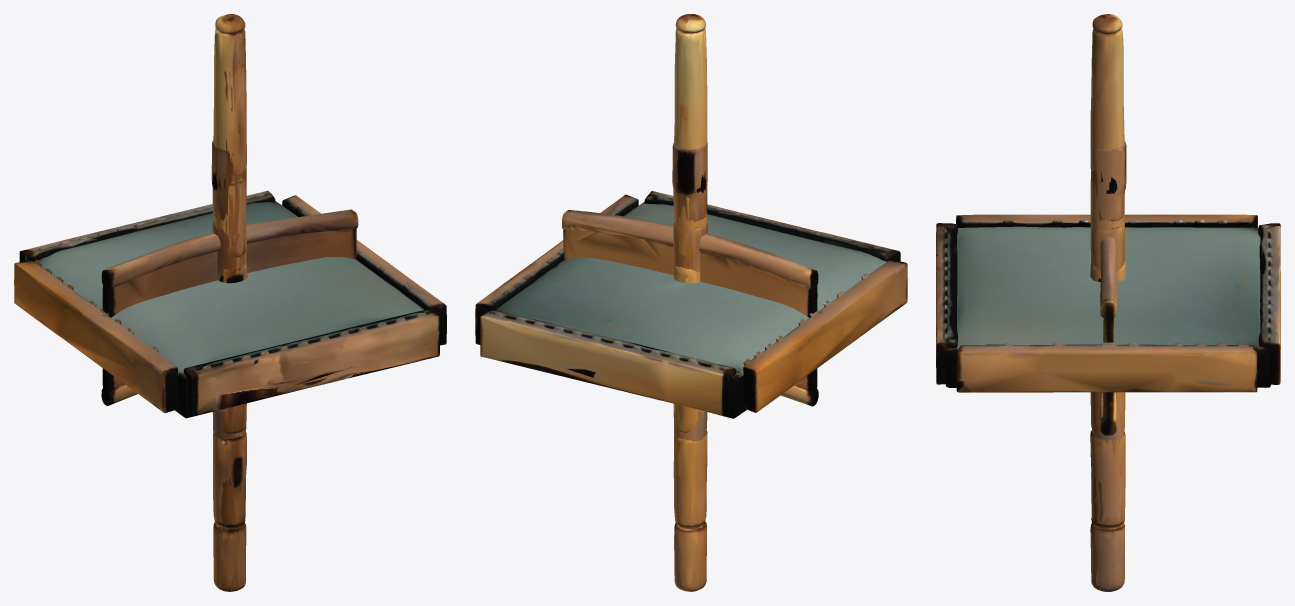
File: NMK.INVENTAR.2017.0213_146734.glb
3 views of the same model, side by side, from view 1: azimuth 30°, elevation 25°; view 2: azimuth 150°, elevation 25°; view 3: azimuth 270°, elevation 25° (orthographic).
Visible parts, largest first — view 1: root.1, root.0, root.2, root.3, root.4, root.5; view 2: root.1, root.0, root.2, root.3, root.4, root.5, root.6; view 3: root.0, root.1, root.4, root.6, root.2, root.3.
Boxes of the visible parts, x1,y1,x2,y2 form: root.1: (14, 190, 446, 416); root.0: (23, 201, 423, 418); root.2: (101, 209, 358, 405); root.3: (212, 15, 245, 591); root.4: (213, 14, 247, 591); root.5: (211, 140, 246, 438); root.1: (475, 191, 907, 416); root.0: (496, 202, 895, 418); root.2: (562, 210, 818, 406); root.3: (674, 14, 707, 591); root.4: (673, 14, 706, 591); root.5: (677, 143, 707, 441); root.6: (672, 143, 707, 439); root.0: (945, 226, 1270, 387); root.1: (936, 214, 1280, 392); root.4: (1090, 14, 1125, 590); root.6: (1091, 142, 1126, 454); root.2: (1099, 237, 1116, 435); root.3: (1090, 14, 1125, 591).
Bounding box in the file's own units: 20083 × 38846 × 21199.
1 material, 1 textured.
